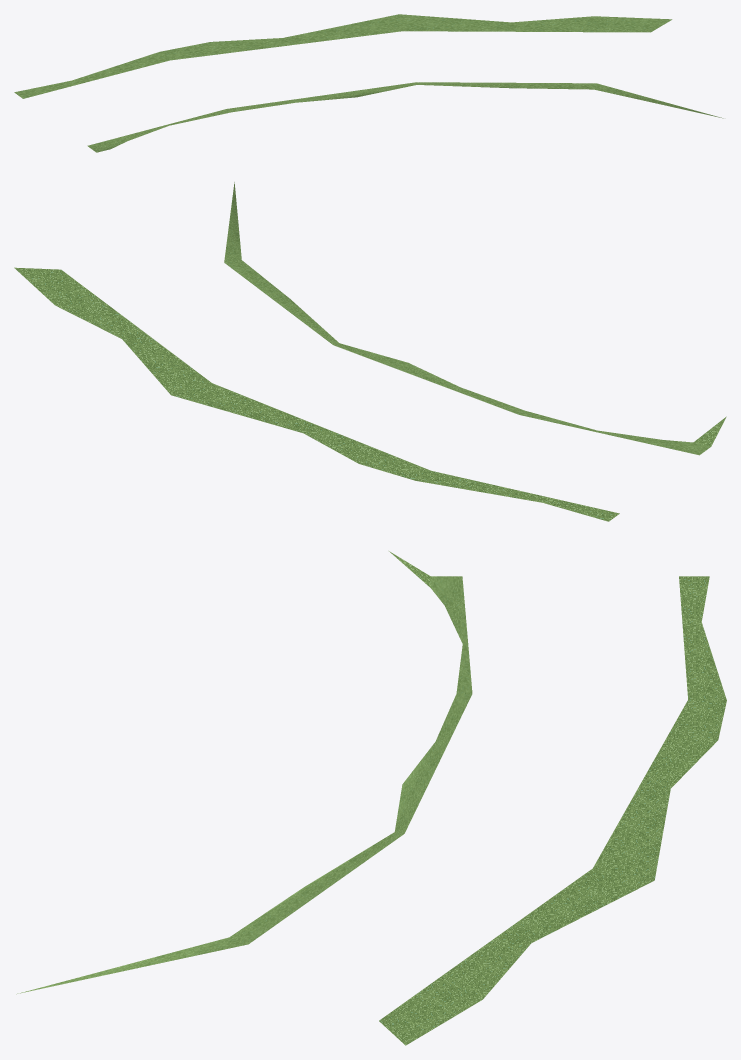
The model's file is kd_stage_135ebf_1_47.glb.
3 renders of one model, top to bottom at view 1: azimuth 30°, elevation 25°; view 2: azimuth 150°, elevation 25°; view 3: azimuth 270°, elevation 25°, orthographic. The views are drawn at different scales.
Parts seen in each view (by area): view 1: kd_stage_135ebf_1_47; view 2: kd_stage_135ebf_1_47; view 3: kd_stage_135ebf_1_47.
Boxes of the visible parts, x1,y1,x2,y2 form: kd_stage_135ebf_1_47: [14, 14, 723, 152]; kd_stage_135ebf_1_47: [14, 182, 726, 521]; kd_stage_135ebf_1_47: [16, 551, 726, 1045].
Bounding box in the file's own units: 23.02 × 0.5957 × 14.78.
1 material, 1 textured.
